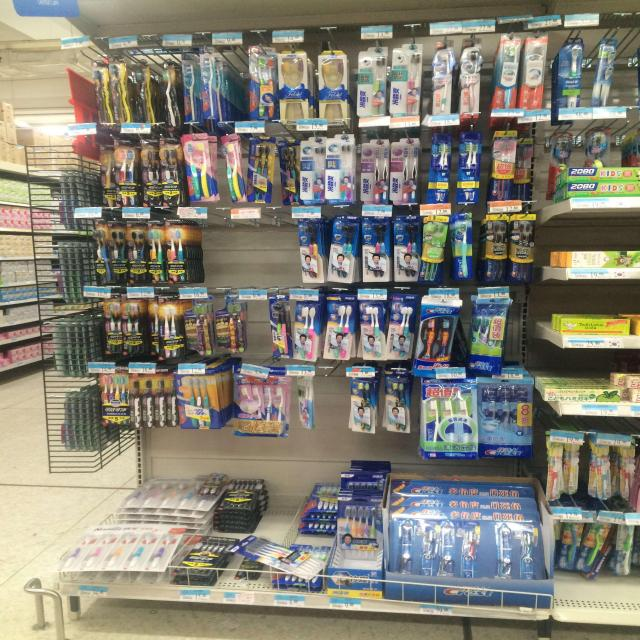void: (205, 224, 298, 286), (318, 370, 346, 424), (269, 492, 293, 532)
